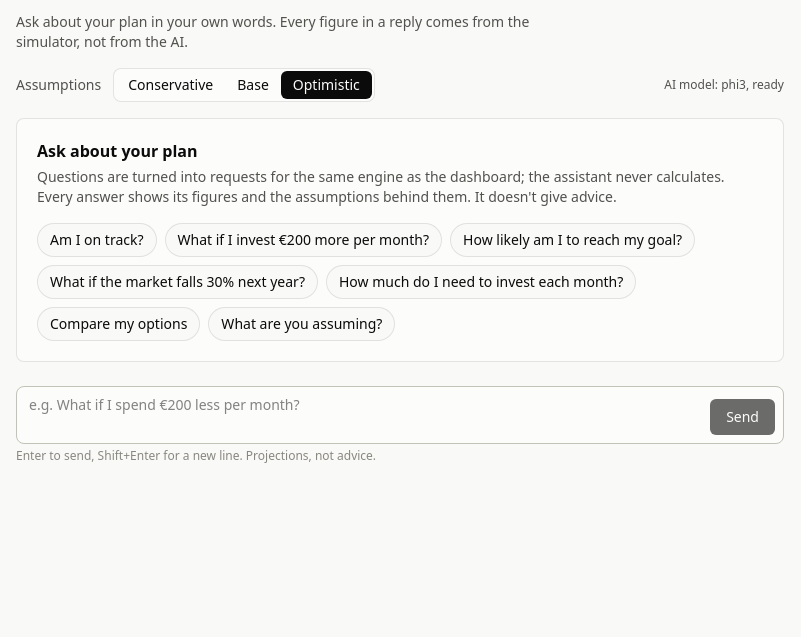
Test case: Ask page › saves a what-if to Compare under a suggested name
Step 1. Type "What if I invest €200 more per month?" into the text box with id "chat-input" → {"x": 364, "y": 415}, box [25,395,702,435]
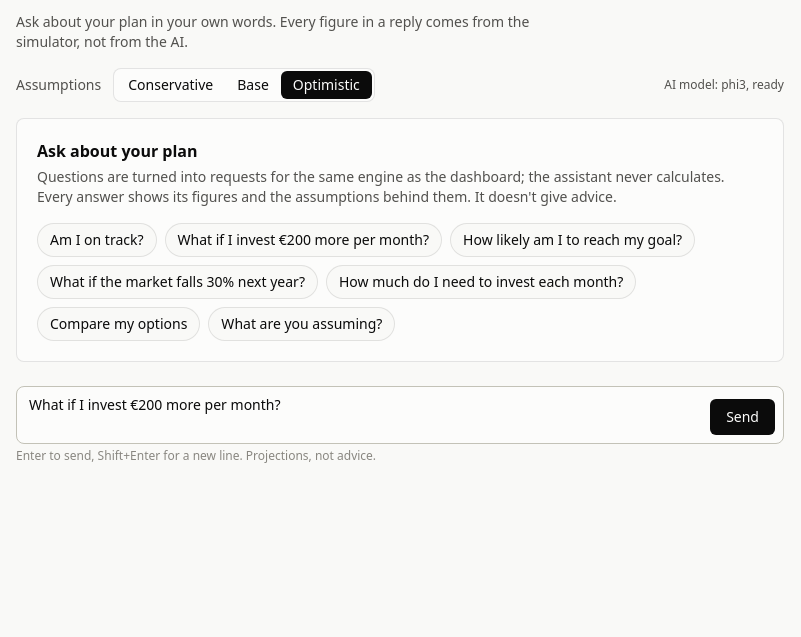
Step 2. Submit the form, box [16,378,784,480]
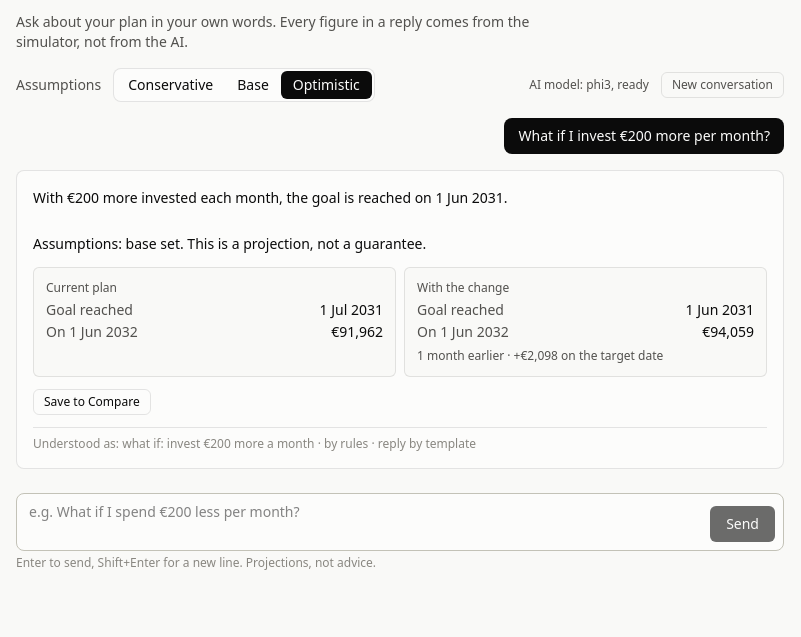
Step 3. Click the button "Save to Compare" → {"x": 92, "y": 402}, box [33,389,151,415]
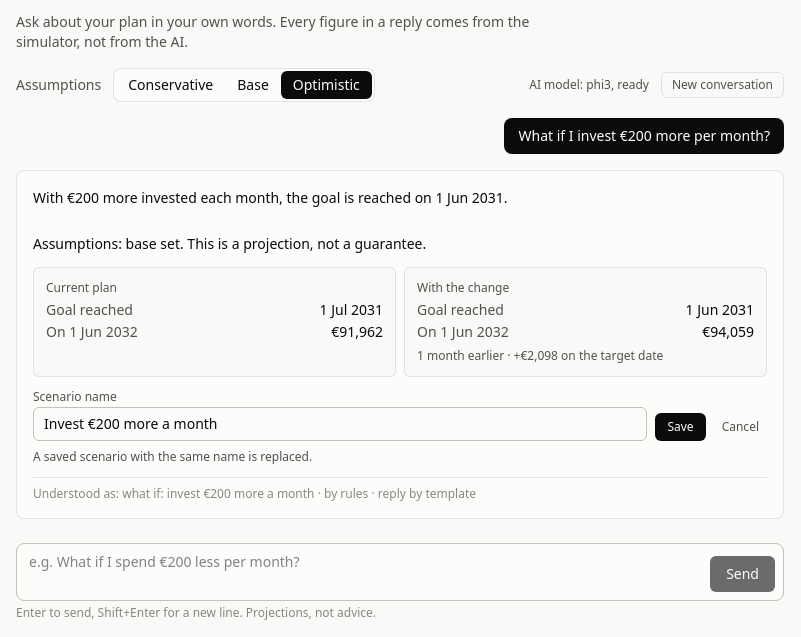
Check: the field labelled "Scenario name" holds "Invest €200 more a month", box [33,407,648,441]
Step 4. Submit the form that starts with "Scenario name", box [33,389,767,465]
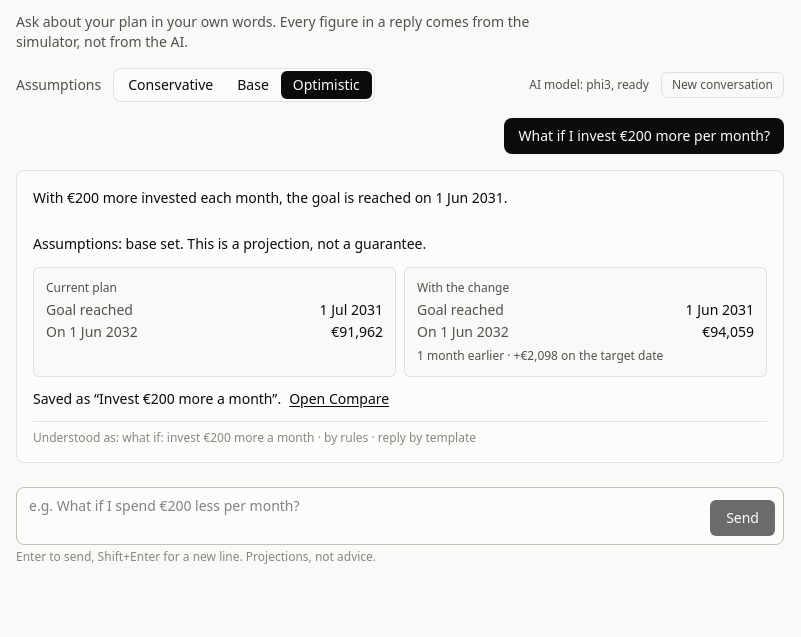
Check: the element named "Reply: answered" shows "Saved as “Invest €200 more a month”.", box [33,389,281,408]
